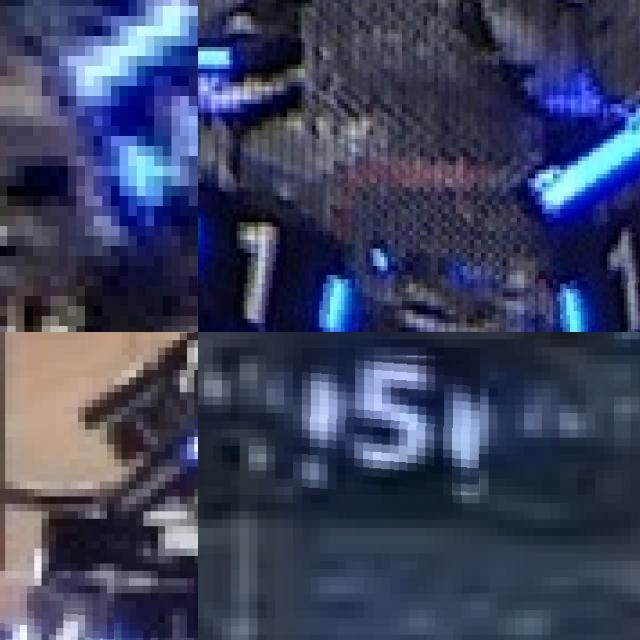B1: (198, 191, 358, 332), (560, 209, 640, 332)
B4: (0, 600, 114, 640)
B5: (302, 348, 480, 495)
